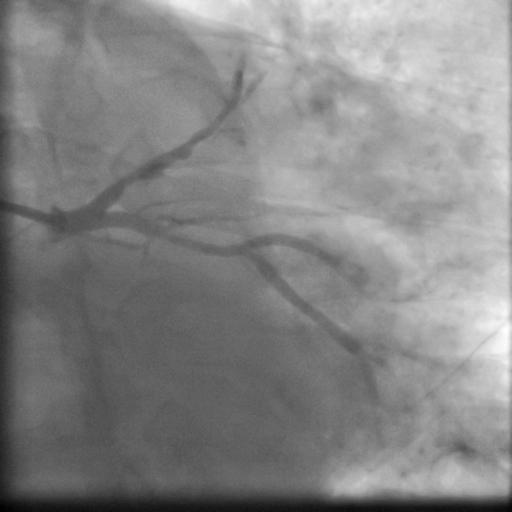Stenosis: (109, 169, 151, 191)
